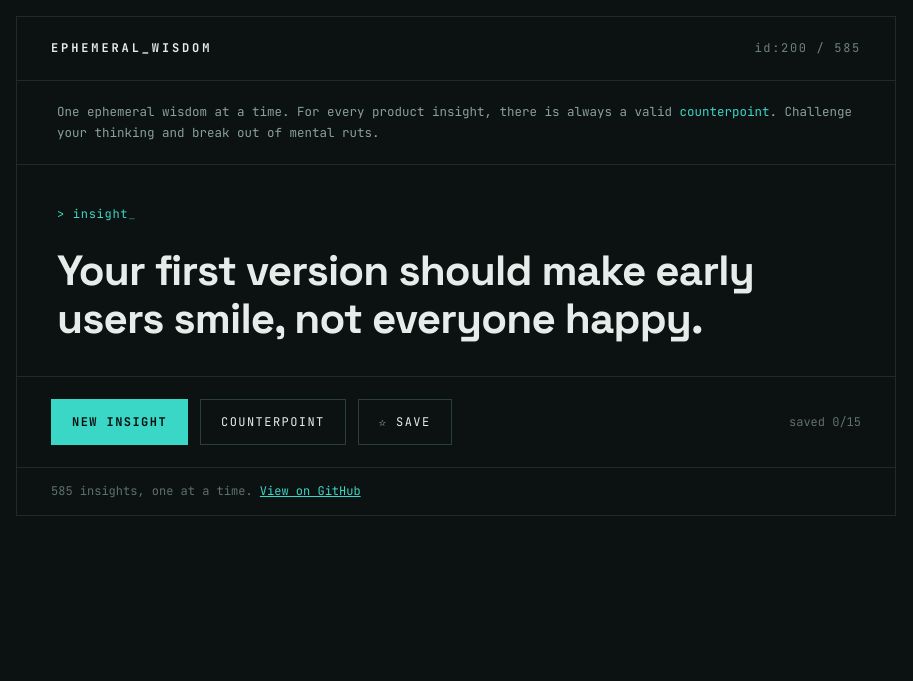
Scenario: App › loads a new insight and hides the counterpoint when "New Insight" is clicked
This screenshot has width=913, height=681.
Click the button "Counterpoint".
click(273, 422)  # box [200,399,346,445]
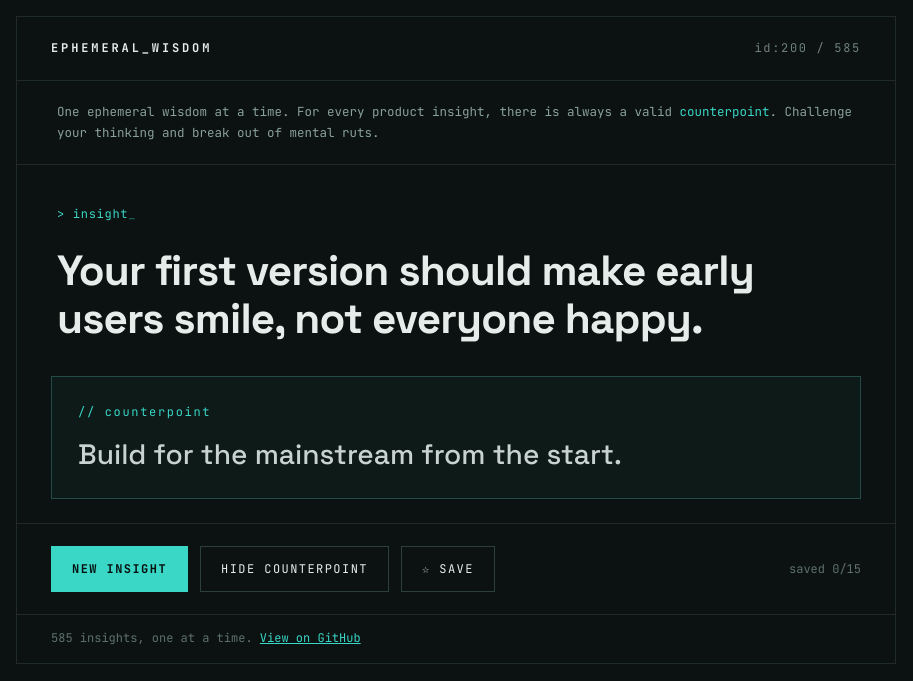
Result: the text "Build for the mainstream from the start." is shown at [78,436,622,472]
Click the button "New Insight".
click(120, 569)  # box [51,546,188,592]
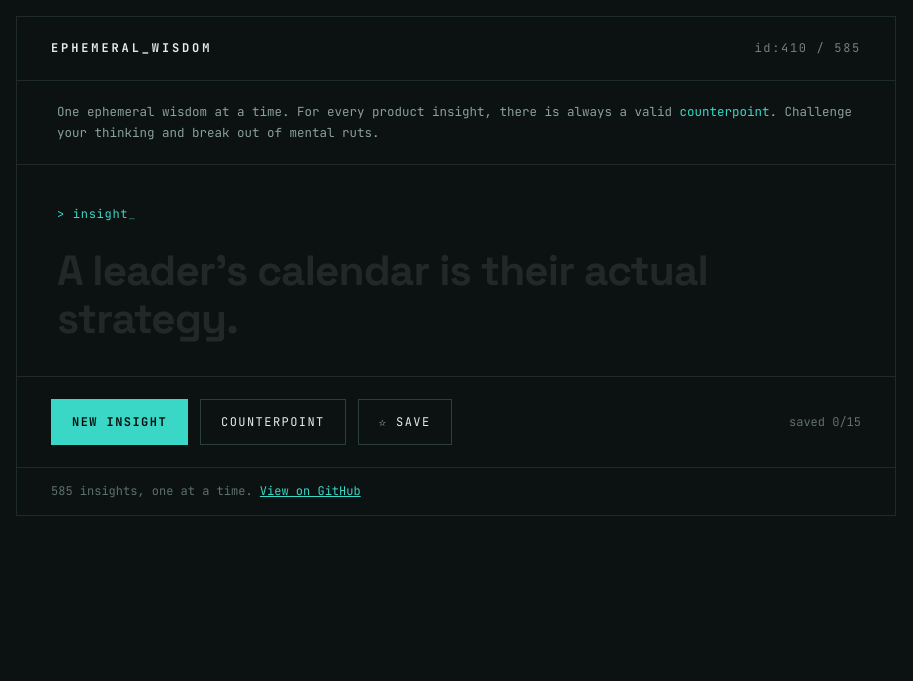
Result: the text with id "counterpoint-text" is gone
